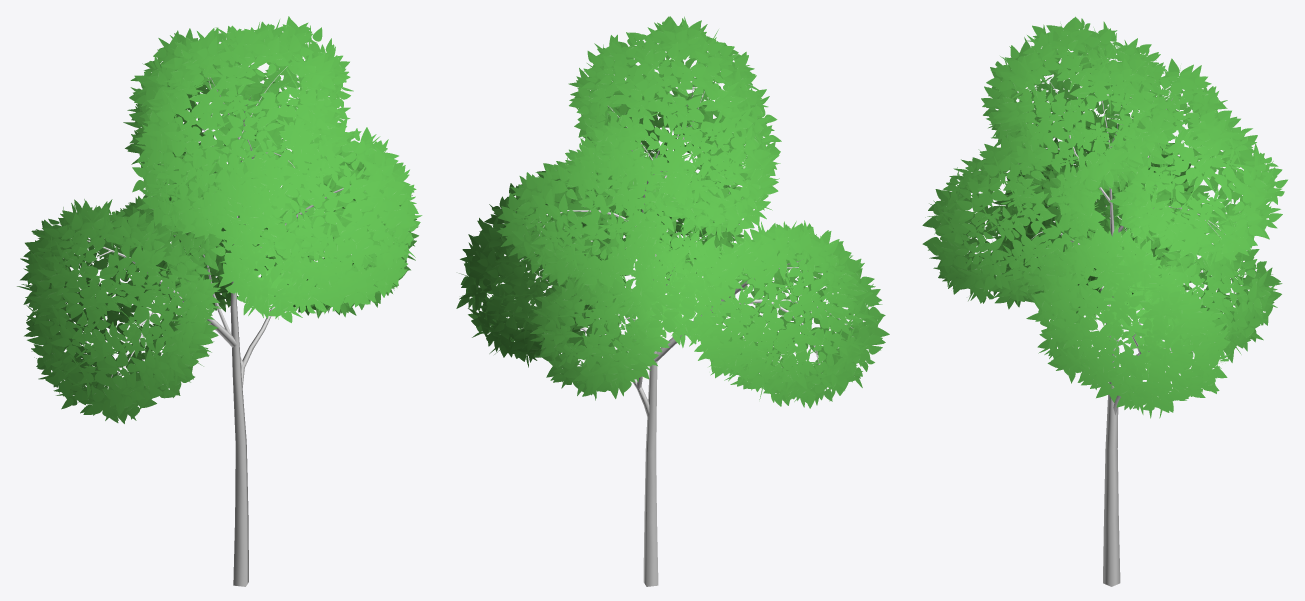
Rendered from ArbolLod0.fbx.
3 renders of one model, left to right at view 1: azimuth 30°, elevation 25°; view 2: azimuth 150°, elevation 25°; view 3: azimuth 270°, elevation 25°, orthographic. The views are drawn at different scales.
Visible parts, largest first — view 1: Hoja.002, tree; view 2: Hoja.002, tree; view 3: Hoja.002, tree.
Boxes of the visible parts, left/top/right/bottom form: Hoja.002: left=17, top=16, right=422, bottom=423; tree: left=87, top=66, right=350, bottom=586; Hoja.002: left=456, top=16, right=889, bottom=408; tree: left=519, top=80, right=853, bottom=586; Hoja.002: left=922, top=16, right=1287, bottom=418; tree: left=1031, top=53, right=1225, bottom=586.
Size of the model in its own units: 512 by 702 by 426.
